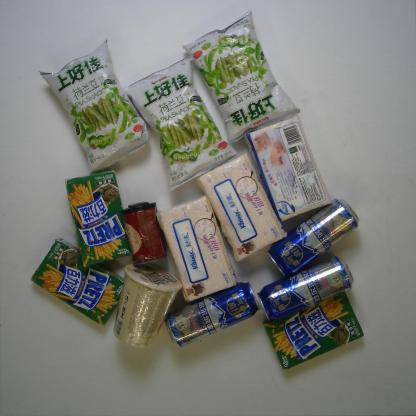Alcohol: (266, 197, 361, 276), (164, 278, 262, 350), (256, 255, 355, 323)
Canned Food: (120, 198, 168, 266)
Dessert: (30, 236, 127, 327), (262, 290, 366, 374), (62, 168, 134, 269)
Instant Noodles: (112, 262, 184, 350)
Puffed Food: (181, 9, 301, 146), (122, 54, 239, 194), (37, 37, 152, 175)
Tissue: (195, 150, 288, 264), (242, 113, 333, 224), (155, 192, 238, 304)
